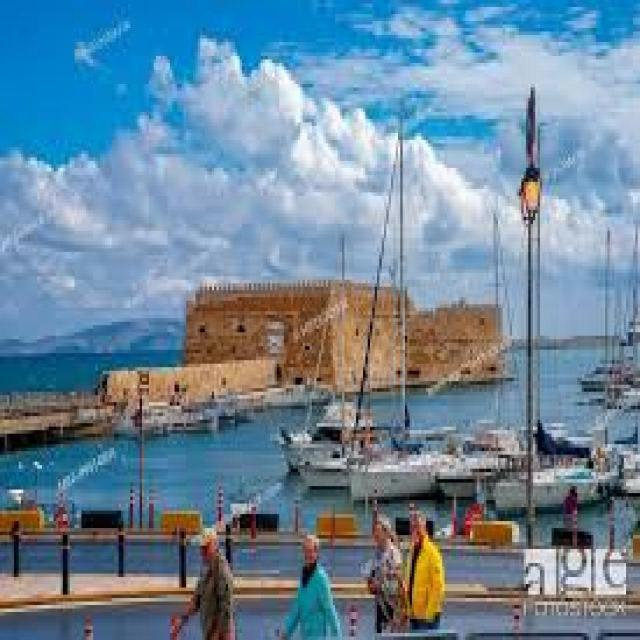Kules: (182, 279, 516, 385)
